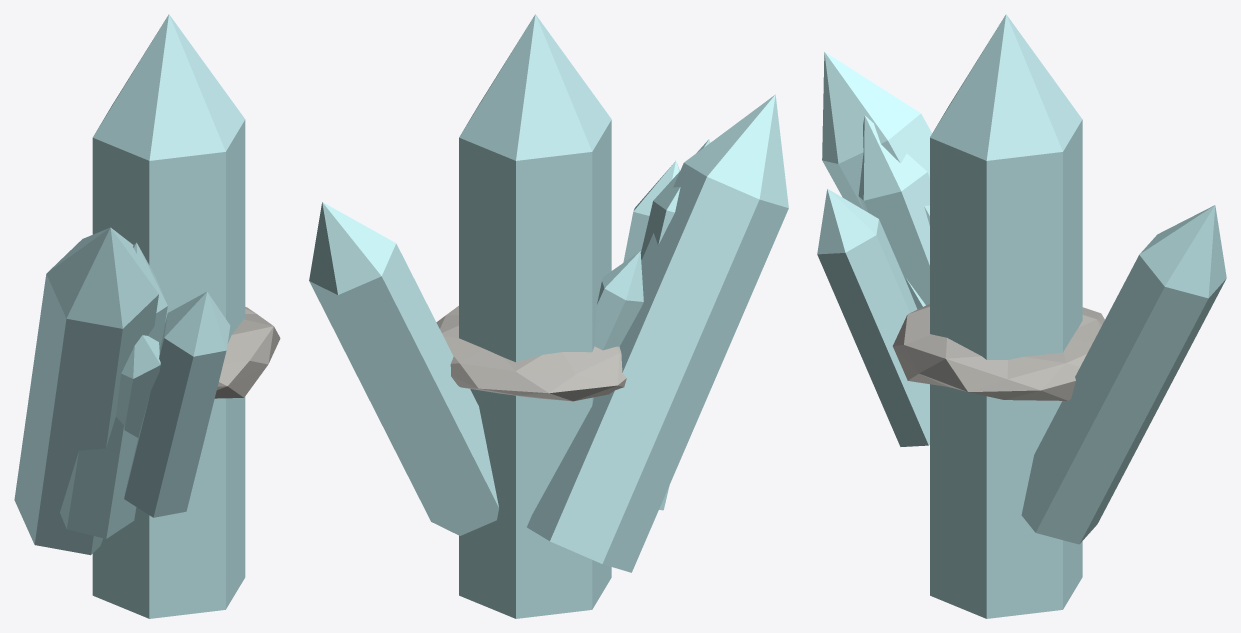
Rendered from crystal_large.glb.
3 renders of one model, left to right at view 1: azimuth 30°, elevation 25°; view 2: azimuth 150°, elevation 25°; view 3: azimuth 270°, elevation 25°, orthographic.
Visible parts, largest first — view 1: crystal_large; view 2: crystal_large; view 3: crystal_large.
Part boxes in pixels (box(x1,y1,x2,y2)): crystal_large: box(14, 14, 280, 618); crystal_large: box(309, 14, 788, 618); crystal_large: box(817, 14, 1226, 618).
Bounding box in the file's own units: 2.84 × 5 × 3.24.
